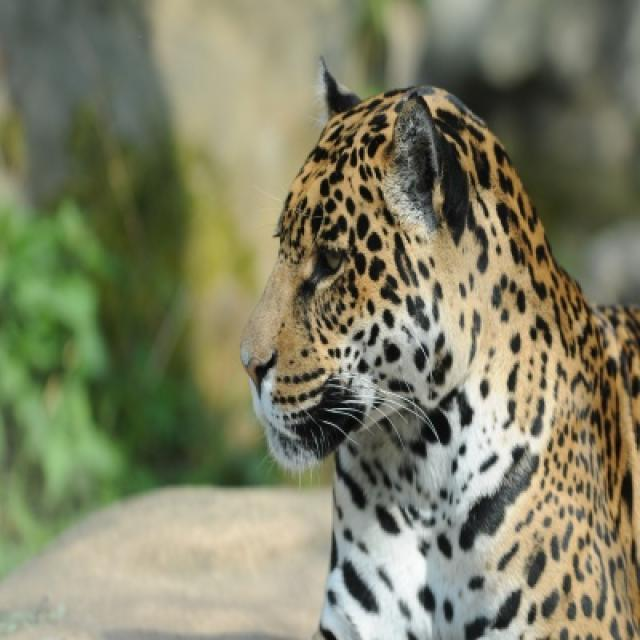Jaguar: (238, 62, 638, 638)
